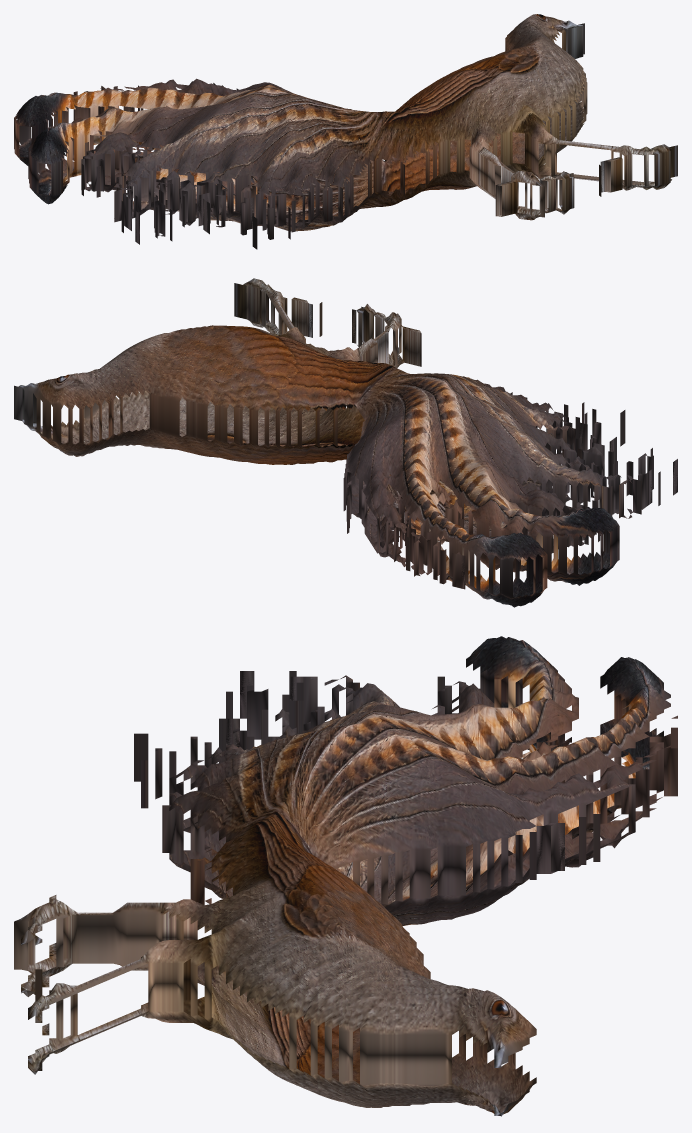
The model's file is lyrebird.glb.
The picture shows the model from 3 angles, top to bottom: view 1: azimuth 30°, elevation 25°; view 2: azimuth 150°, elevation 25°; view 3: azimuth 270°, elevation 25°; orthographic projection. The views are drawn at different scales.
Parts seen in each view (by area): view 1: lyrebird_obj; view 2: lyrebird_obj; view 3: lyrebird_obj.
Boxes of the visible parts, box(x1,y1,x2,y2) form: lyrebird_obj: box(14, 14, 677, 249); lyrebird_obj: box(14, 278, 677, 607); lyrebird_obj: box(14, 636, 677, 1116).
Bounding box in the file's own units: 1.87 × 0.44 × 1.25.
1 material, 1 textured.
